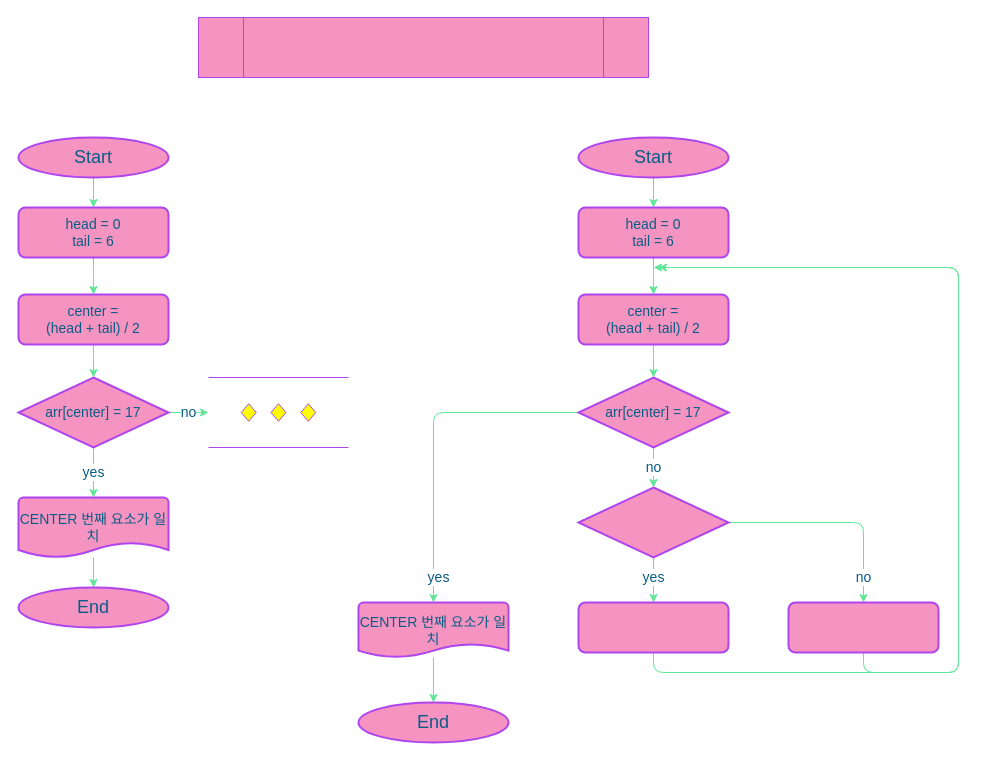
The diagram is 984 pixels wide and 761 high, and some of its shapes have lost their labels. The centre of each missing label's shape, as x and y in pixels:
arr[center] < 17: pixel 653 522
Binary Search: pixel 423 47
head = center + 1: pixel 653 627
tail = center - 1: pixel 863 627
